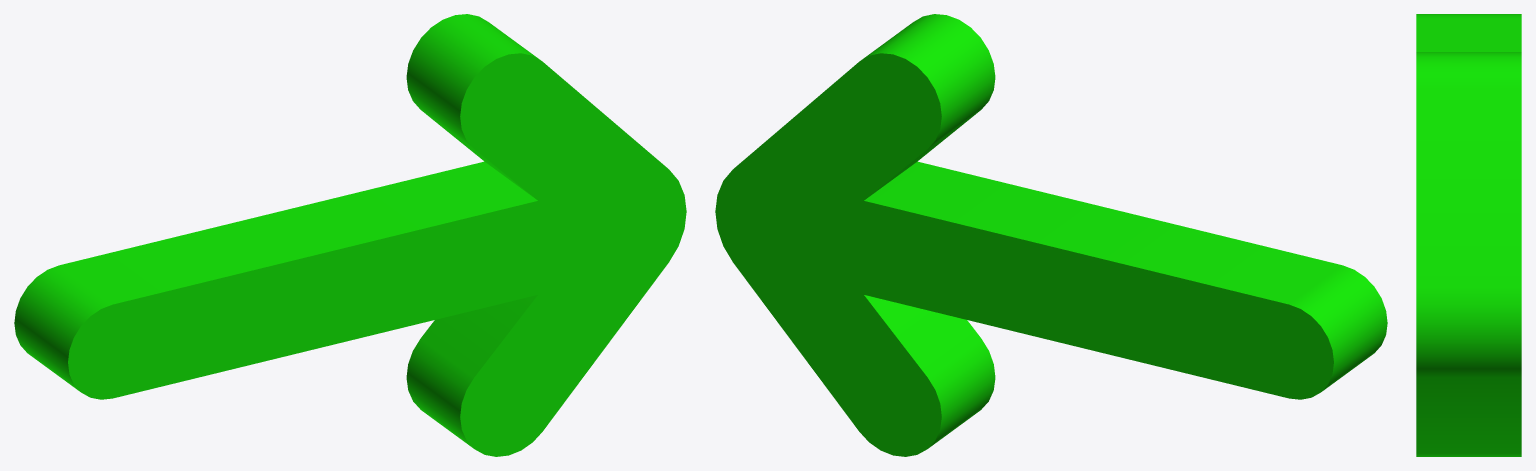
The model's file is TestingMoodel 1.fbx.
3 renders of one model, left to right at view 1: azimuth 30°, elevation 25°; view 2: azimuth 150°, elevation 25°; view 3: azimuth 270°, elevation 25°, orthographic.
Parts seen in each view (by area): view 1: Object_14; view 2: Object_14; view 3: Object_14.
Boxes of the visible parts, bbox=[...] form: Object_14: bbox=[14, 14, 686, 456]; Object_14: bbox=[715, 14, 1387, 456]; Object_14: bbox=[1416, 14, 1521, 456].
Size of the model in its own units: 23.75 by 14.72 by 3.57.
